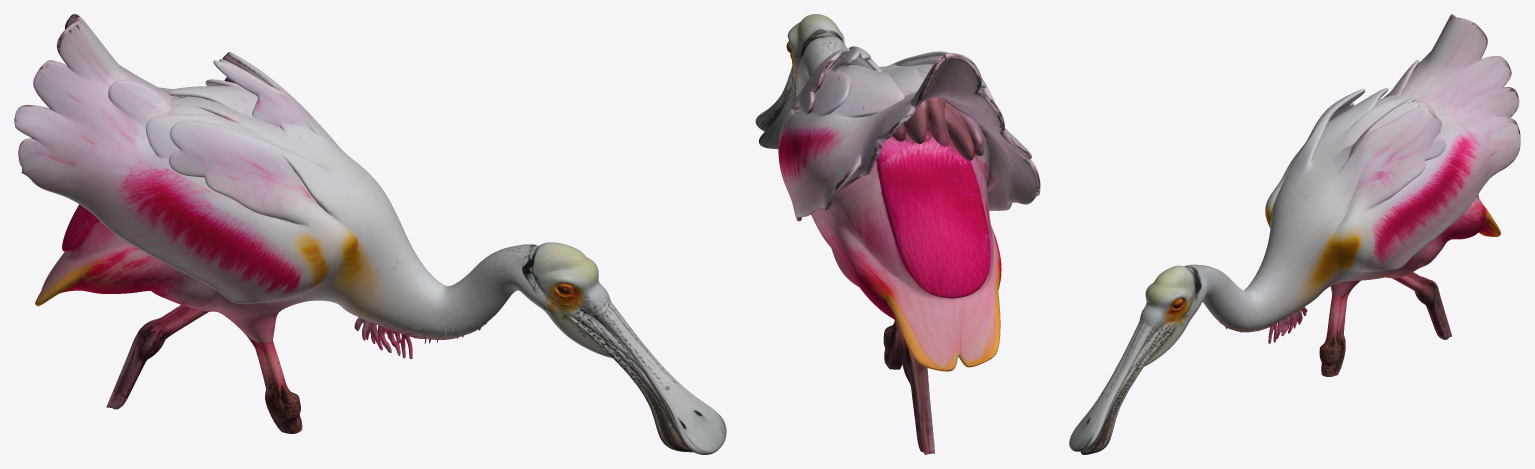
The model's file is nm__spoonbill.glb.
3 renders of one model, left to right at view 1: azimuth 30°, elevation 25°; view 2: azimuth 150°, elevation 25°; view 3: azimuth 270°, elevation 25°, orthographic. The views are drawn at different scales.
Visible parts, largest first — view 1: Object_2, Object_3; view 2: Object_2, Object_3; view 3: Object_2, Object_3.
Boxes of the visible parts, x1,y1,x2,y2 form: Object_2: (14, 14, 726, 454); Object_3: (15, 75, 663, 433); Object_2: (755, 14, 1040, 370); Object_3: (778, 23, 1040, 454); Object_2: (1069, 14, 1519, 454); Object_3: (1136, 70, 1520, 376).
Bounding box in the file's own units: 0.6515 × 0.499 × 0.6584.
1 material, 1 textured.
